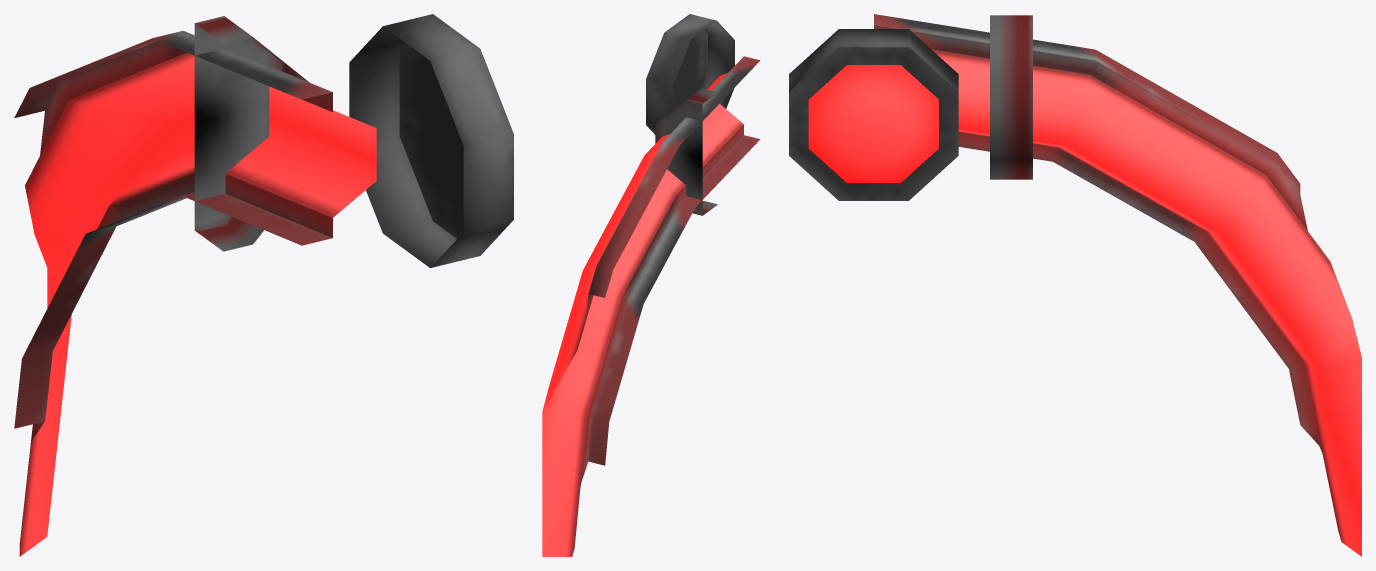
Rendered from VR_DoorLock_2.fbx.
The picture shows the model from 3 angles, left to right: view 1: azimuth 30°, elevation 25°; view 2: azimuth 150°, elevation 25°; view 3: azimuth 270°, elevation 25°; orthographic projection. The views are drawn at different scales.
Visible parts, largest first — view 1: Circle.008; view 2: Circle.008; view 3: Circle.008.
Part boxes in pixels (bbox=[...]): Circle.008: bbox=[14, 14, 513, 556]; Circle.008: bbox=[542, 14, 760, 556]; Circle.008: bbox=[789, 14, 1361, 556].
Size of the model in its own units: 0.2867 by 1.17 by 1.12.
